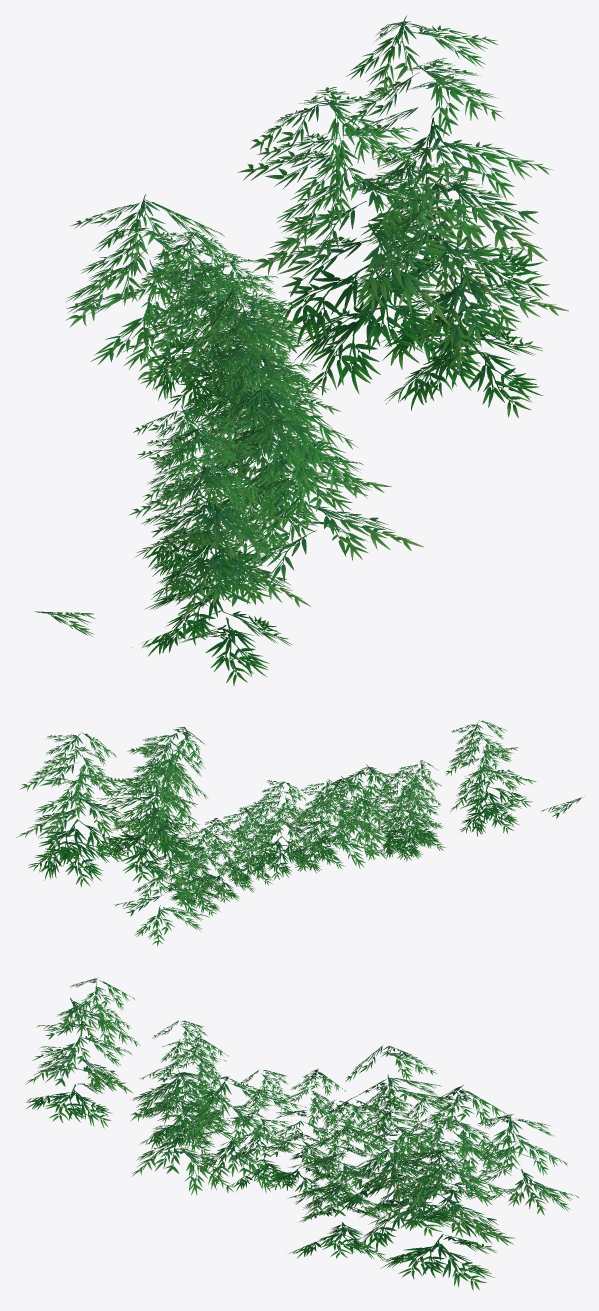
The model's file is Area_10_26.fbx.
3 views of the same model, one above another, from view 1: azimuth 30°, elevation 25°; view 2: azimuth 150°, elevation 25°; view 3: azimuth 270°, elevation 25° (orthographic). The views are drawn at different scales.
Parts seen in each view (by area): view 1: Area_10_26; view 2: Area_10_26; view 3: Area_10_26.
Part boxes in pixels (bbox=[...]): Area_10_26: bbox=[34, 15, 568, 685]; Area_10_26: bbox=[16, 720, 584, 946]; Area_10_26: bbox=[25, 978, 578, 1290].
Bounding box in the file's own units: 2801 × 1044 × 2761.
